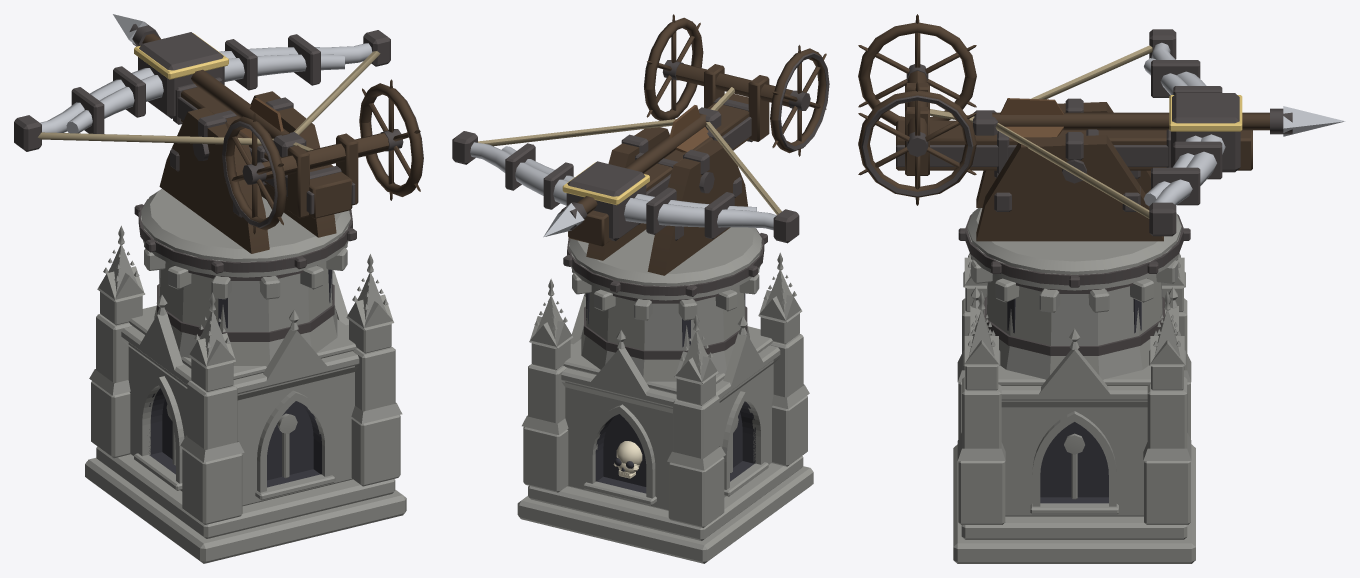
The model's file is tower_ballista_2.glb.
3 renders of one model, left to right at view 1: azimuth 30°, elevation 25°; view 2: azimuth 150°, elevation 25°; view 3: azimuth 270°, elevation 25°, orthographic. The views are drawn at different scales.
Visible parts, largest first — view 1: tower, turret; view 2: tower, turret; view 3: tower, turret.
Boxes of the visible parts, bbox=[...] form: tower: bbox=[85, 215, 406, 563]; turret: bbox=[14, 14, 423, 274]; tower: bbox=[517, 243, 813, 563]; turret: bbox=[452, 14, 829, 297]; tower: bbox=[953, 232, 1195, 563]; turret: bbox=[858, 14, 1344, 287].
Size of the model in its own units: 3.02 by 3.6 by 3.42.
